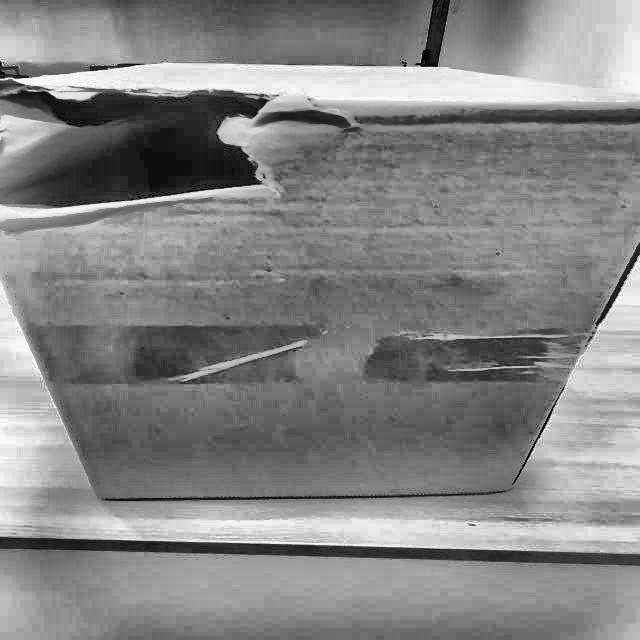box: (0, 57, 639, 510)
hole: (3, 76, 287, 226)
